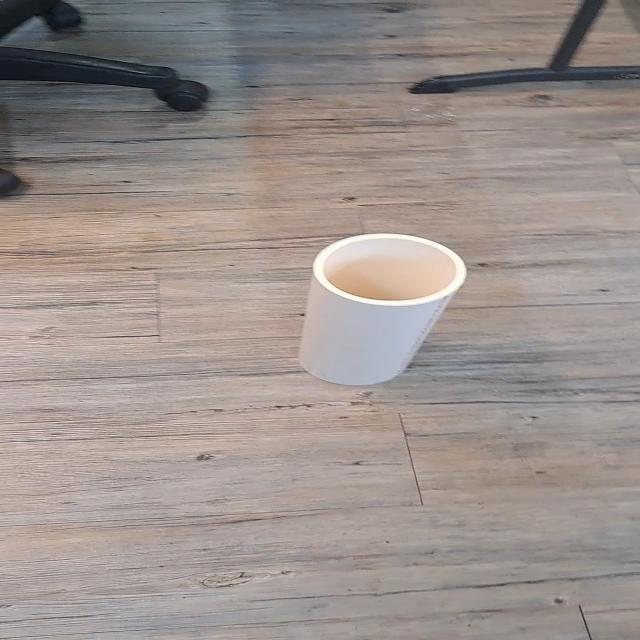CORAL: (288, 224, 476, 405)
